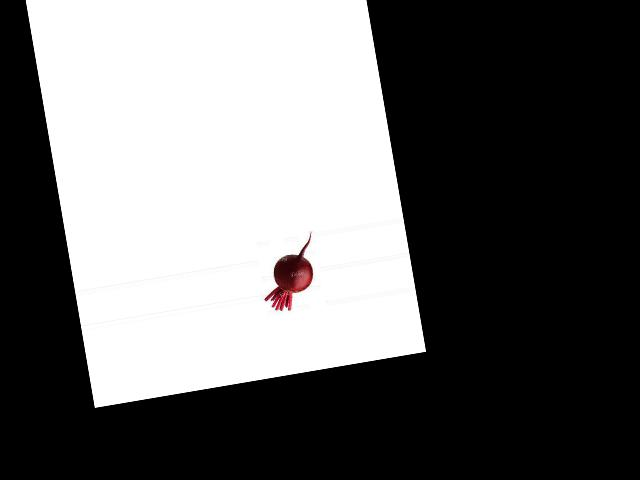beet: (254, 232, 323, 314)
